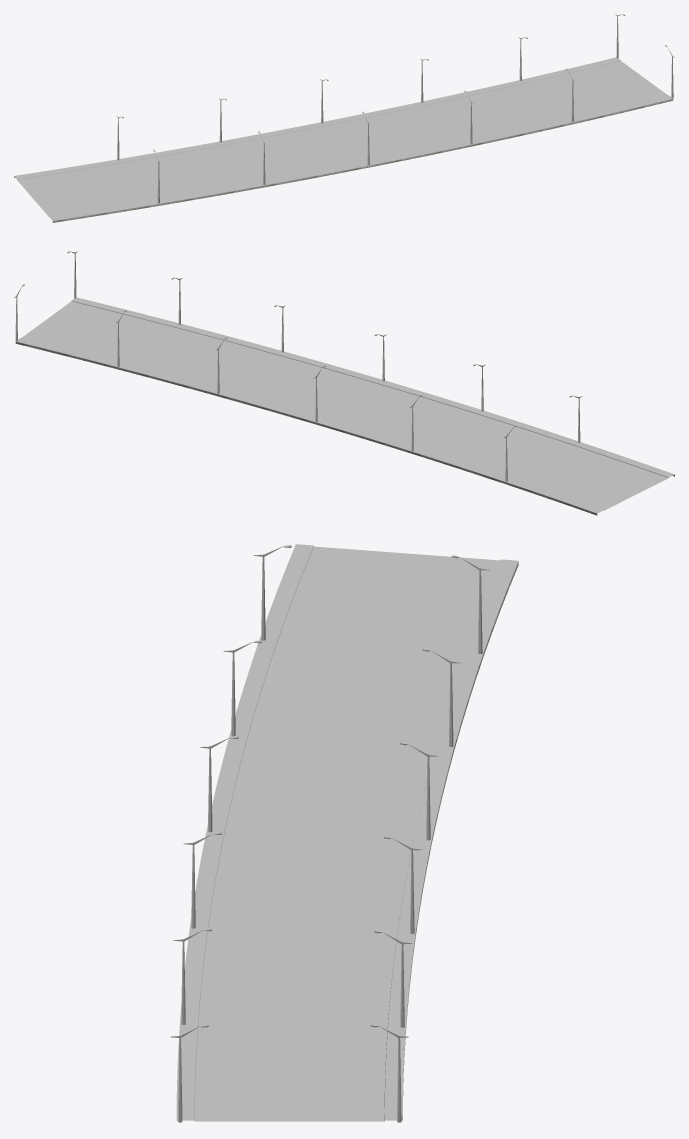
The model's file is Big_Road_10.FBX.
3 renders of one model, top to bottom at view 1: azimuth 30°, elevation 25°; view 2: azimuth 150°, elevation 25°; view 3: azimuth 270°, elevation 25°, orthographic. The views are drawn at different scales.
Visible parts, largest first — view 1: Big_Road_10, city_light001; view 2: Big_Road_10, city_light001; view 3: Big_Road_10, city_light001.
Part boxes in pixels (x1=…): Big_Road_10: x1=14, y1=57, x2=673, y2=222; city_light001: x1=116, y1=14, x2=674, y2=203; Big_Road_10: x1=15, y1=297, x2=674, y2=515; city_light001: x1=14, y1=251, x2=582, y2=481; Big_Road_10: x1=176, y1=544, x2=518, y2=1121; city_light001: x1=170, y1=545, x2=489, y2=1122.
Bounding box in the file's own units: 13693 × 1104 × 3492.
